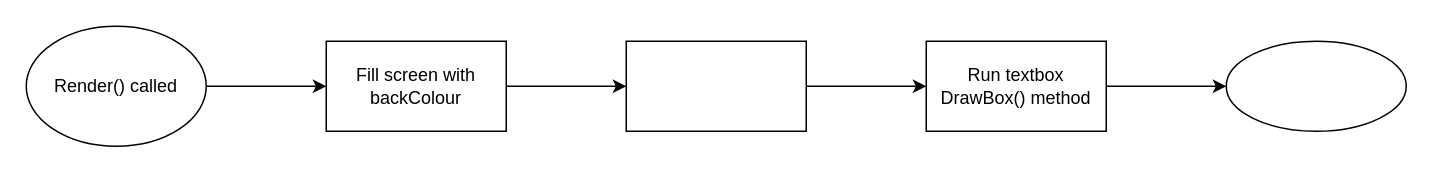
Image size: 1433x173. Some labels were removed from this diagram. Each missing label, with the centre of its shape:
"Draw textbox tectangle" goes at pixel 715 85.
"Update display" goes at pixel 1315 85.
